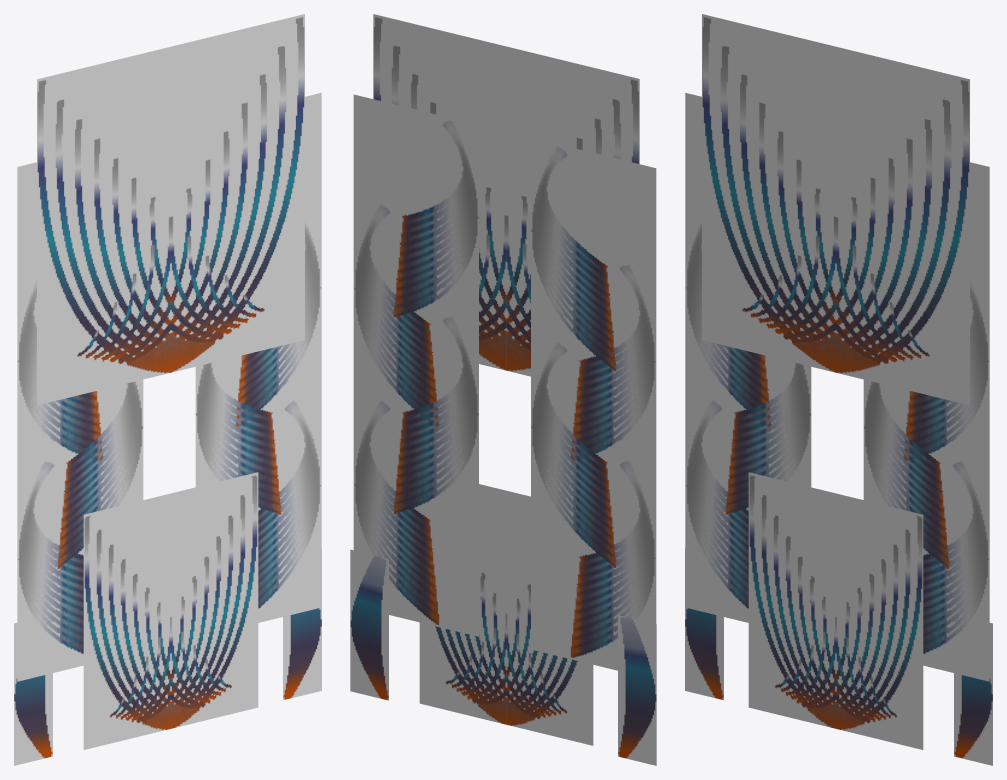
The model's file is maskB_4.obj.
3 renders of one model, left to right at view 1: azimuth 30°, elevation 25°; view 2: azimuth 150°, elevation 25°; view 3: azimuth 330°, elevation 25°, orthographic.
Parts seen in each view (by area): view 1: headdress_a_L, headdress_a_R, headdress_b_R, headdress_b_L, headdress_c_L, headdress_c_R, headdress_d_R, headdress_d_L; view 2: headdress_b_L, headdress_b_R, headdress_a_L, headdress_a_R, headdress_c_L, headdress_c_R, headdress_d_L, headdress_d_R; view 3: headdress_a_R, headdress_a_L, headdress_b_L, headdress_b_R, headdress_c_R, headdress_c_L, headdress_d_L, headdress_d_R.
Part boxes in pixels (<box>): headdress_a_L: <box>171,14,304,372</box>; headdress_a_R: <box>37,46,170,405</box>; headdress_b_R: <box>17,162,143,681</box>; headdress_b_L: <box>195,93,321,622</box>; headdress_c_L: <box>171,472,258,728</box>; headdress_c_R: <box>83,493,170,749</box>; headdress_d_R: <box>14,623,52,765</box>; headdress_d_L: <box>283,548,321,700</box>; headdress_b_L: <box>353,94,478,636</box>; headdress_b_R: <box>531,137,656,670</box>; headdress_a_L: <box>373,14,506,370</box>; headdress_a_R: <box>506,46,639,376</box>; headdress_c_L: <box>419,484,506,724</box>; headdress_c_R: <box>506,490,593,745</box>; headdress_d_L: <box>350,549,388,700</box>; headdress_d_R: <box>618,615,656,765</box>; headdress_a_R: <box>702,14,835,372</box>; headdress_a_L: <box>836,46,969,405</box>; headdress_b_L: <box>863,162,989,681</box>; headdress_b_R: <box>685,93,811,622</box>; headdress_c_R: <box>748,472,835,728</box>; headdress_c_L: <box>836,493,923,749</box>; headdress_d_L: <box>954,623,992,765</box>; headdress_d_R: <box>685,548,723,700</box>.
Bounding box in the file's own units: 119 × 254 × 2.
1 material, 1 textured.
